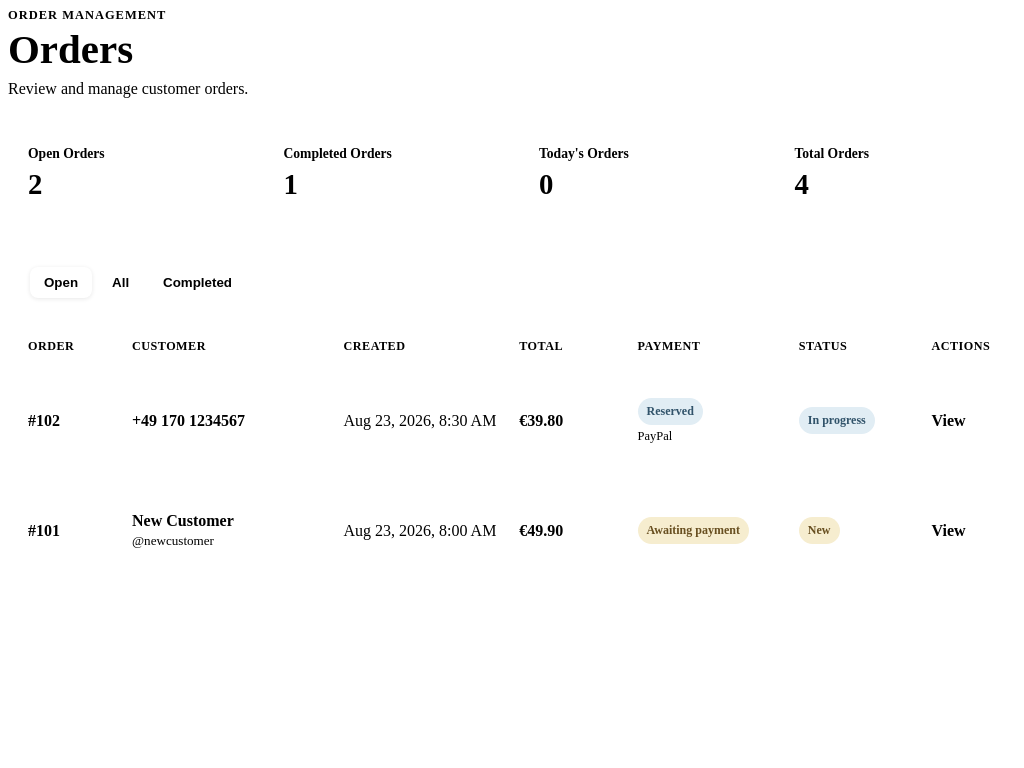
Test: OrdersDashboard › switches between All and Completed filters without changing order sequence
The width and height of the screenshot is (1024, 768).
What coordinates should you click on to do the following:
click the button "All"
I would click on:
 (121, 283)
Its box is [98,267,143,298].
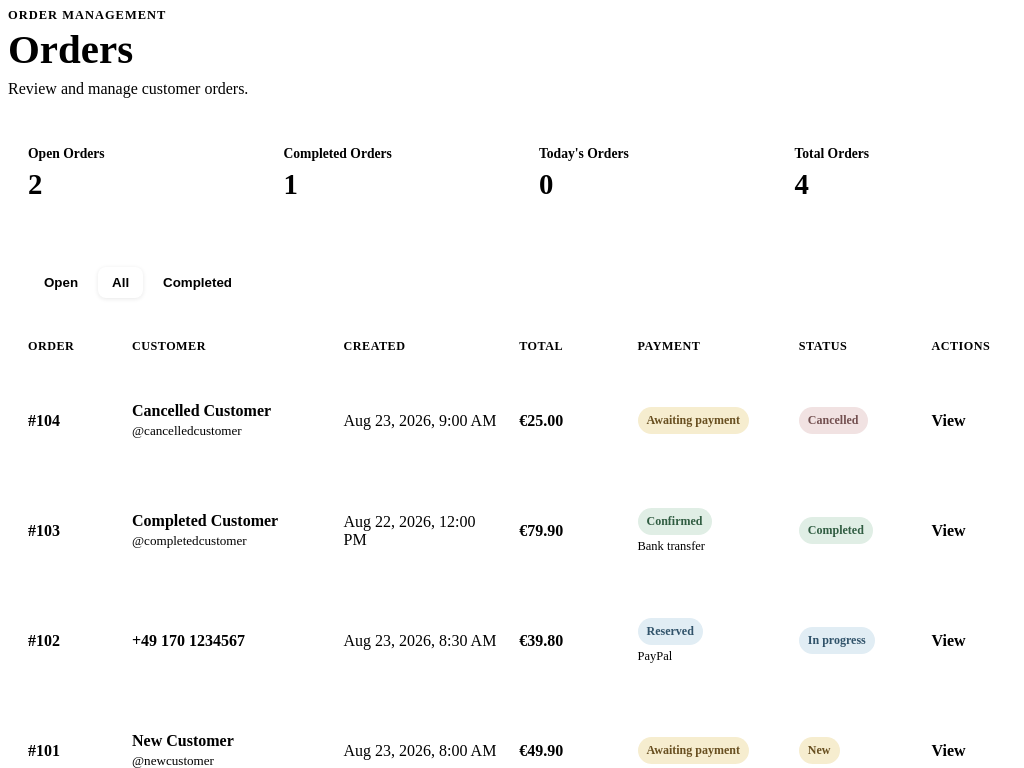
Check: the element with class "order-row" shows "#102", box [28,618,966,663]
Check: the element with class "order-row" shows "#104", box [28,402,966,438]
Check: the element with class "order-row" shows "#103", box [28,508,966,553]
What coordinates should you click on to do the following:
click the button "Completed"
I would click on:
 (198, 283)
Its box is [149,267,246,298].
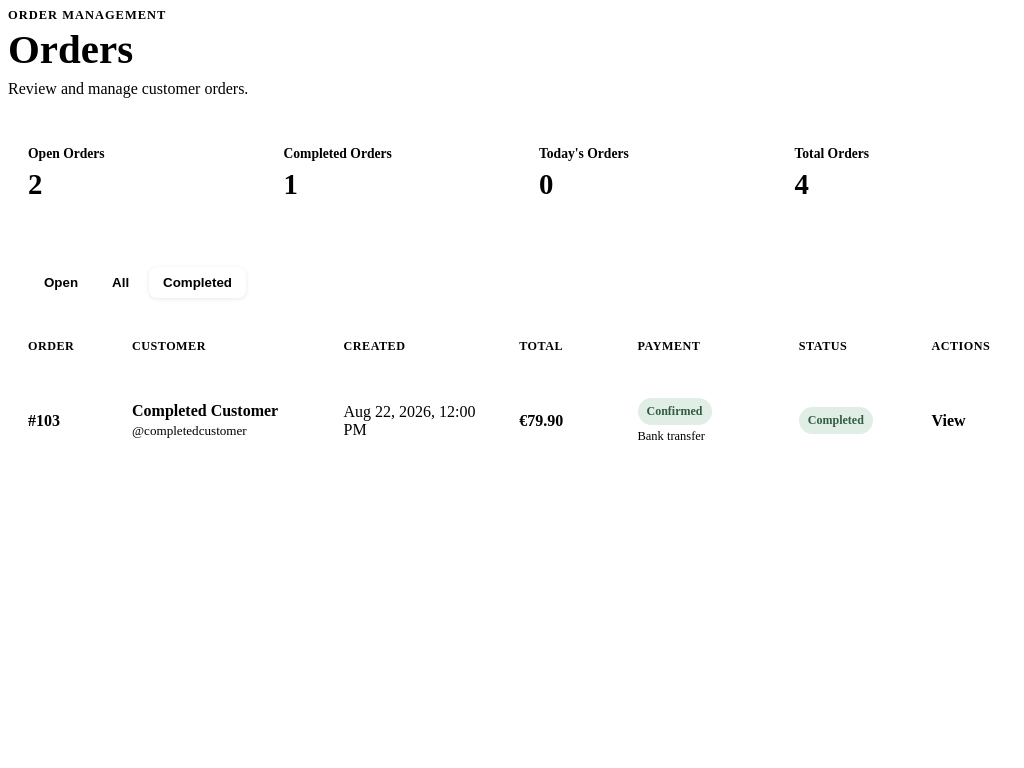
Check: the text "#103" is shown, box [28,398,966,443]
Check: the text "#101" is gone
